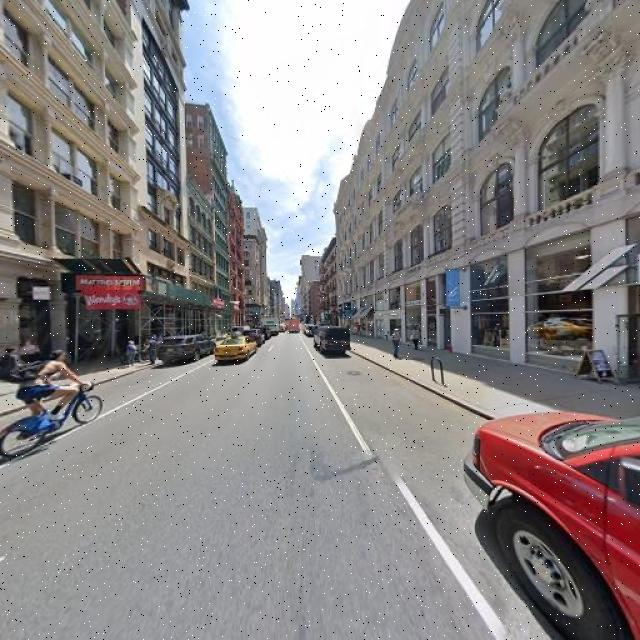Building: (459, 1, 640, 383), (1, 1, 140, 372), (338, 1, 455, 350)
